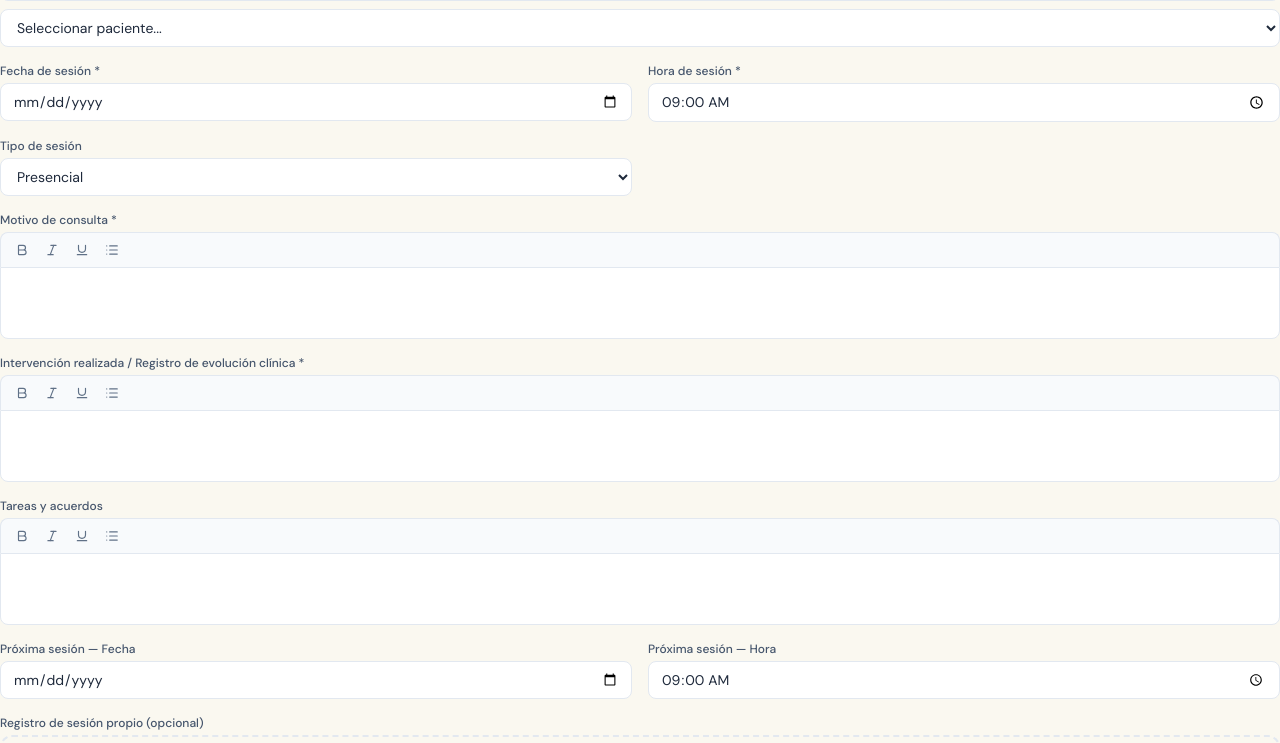
Test: ConsultationForm — paciente con tratamiento cerrado › si se cancela el diálogo no reenvía
Select "Paciente de Prueba — 11111111-1" in the dropdown labelled "Paciente *": {"x": 640, "y": 28} left=0, top=9, right=1279, bottom=47
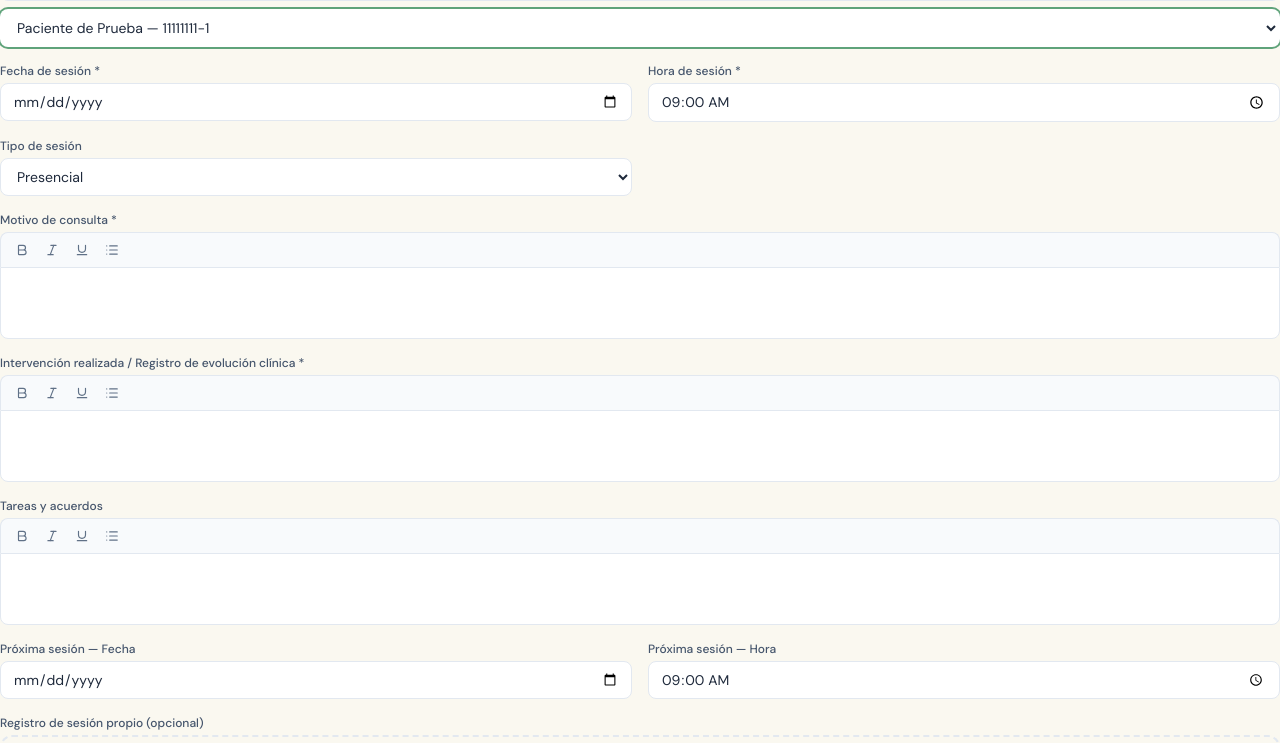
In the date field labelled "Fecha de sesión *": {"x": 316, "y": 102} left=0, top=83, right=632, bottom=121, type "2026-10-05"
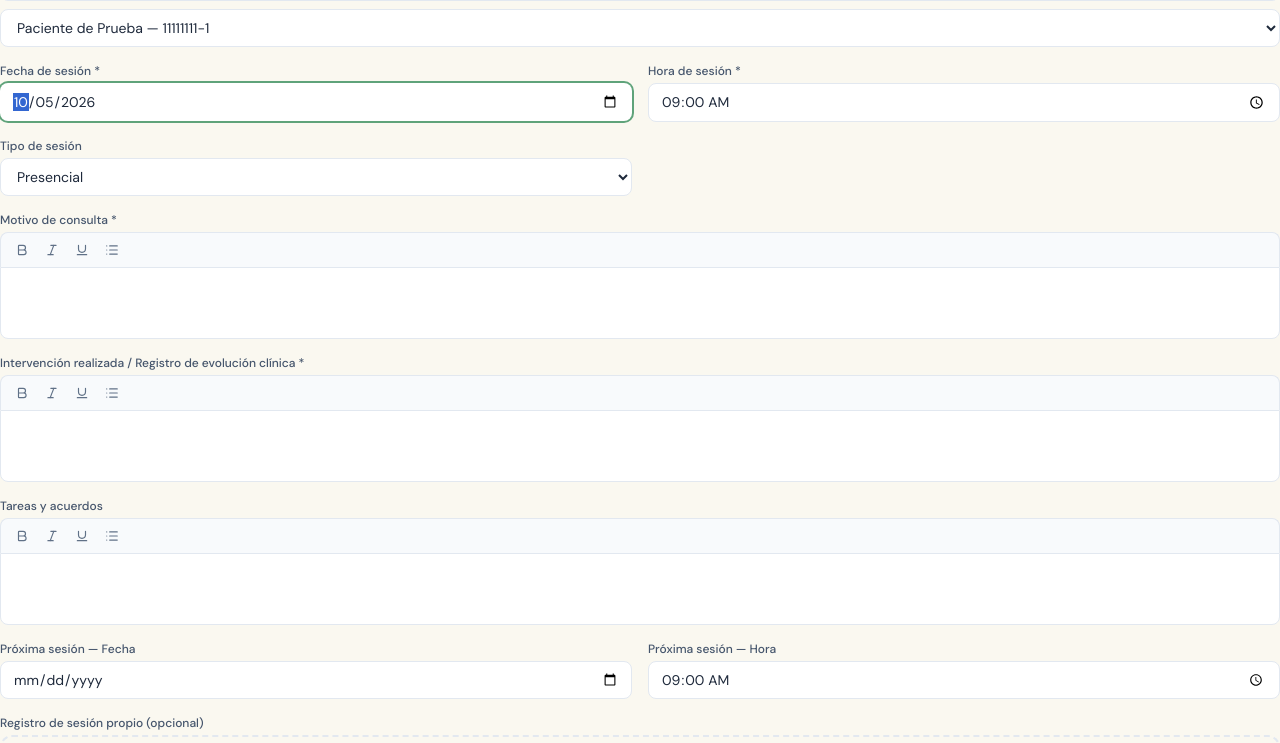
In the field named "Motivo de consulta": {"x": 640, "y": 303} left=0, top=267, right=1279, bottom=339, type "Ansiedad"
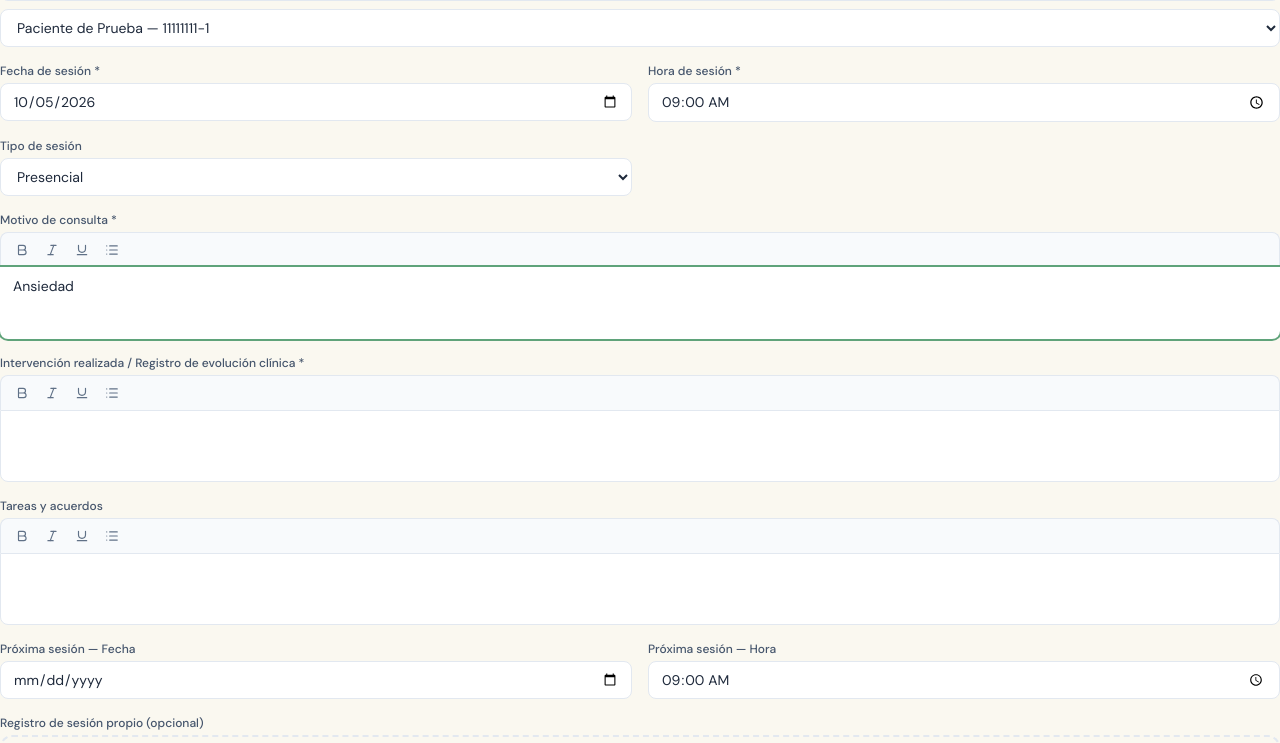
In the field named "Intervención realizada / Registro de evolución clínica": {"x": 640, "y": 446} left=0, top=410, right=1279, bottom=482, type "Respiración"
(page scrolled)
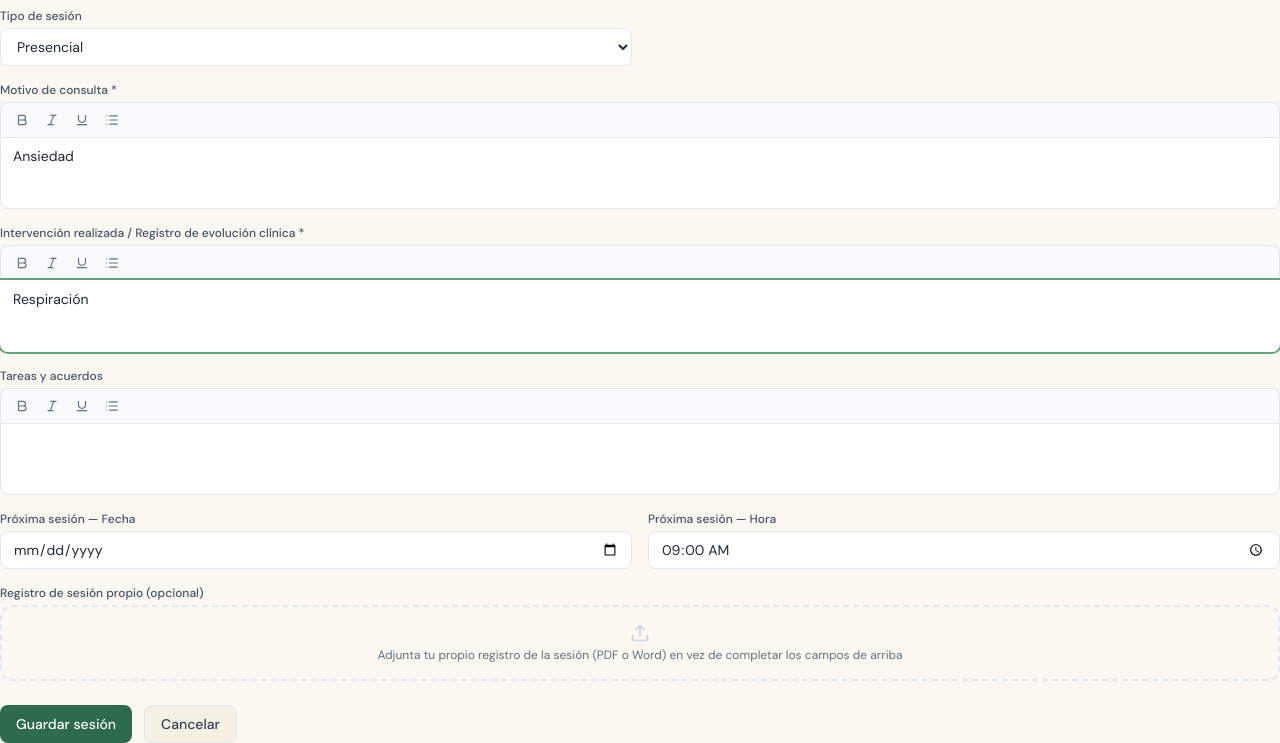
Click the button "Guardar sesión": {"x": 66, "y": 724} left=0, top=705, right=132, bottom=742
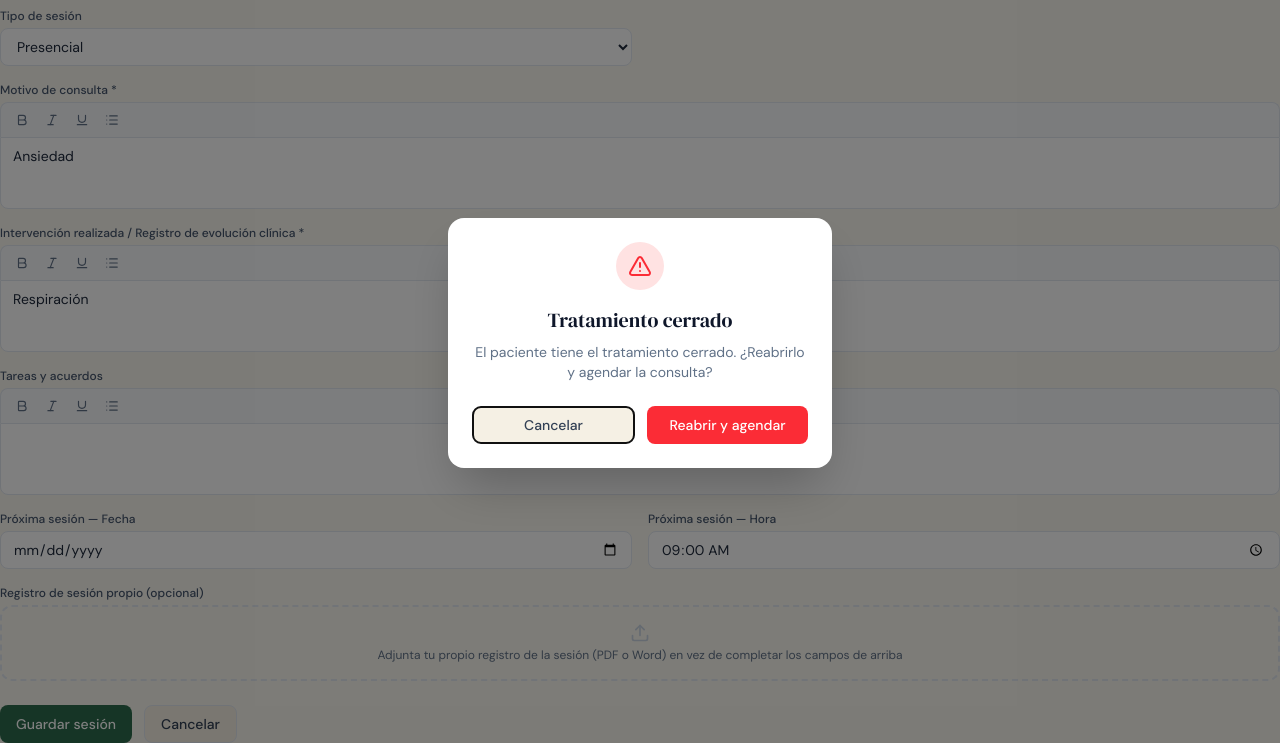
Now the text "tiene el tratamiento cerrado" is shown, box left=475, top=343, right=805, bottom=381
Click the button "Cancelar": {"x": 554, "y": 425} left=472, top=406, right=635, bottom=444
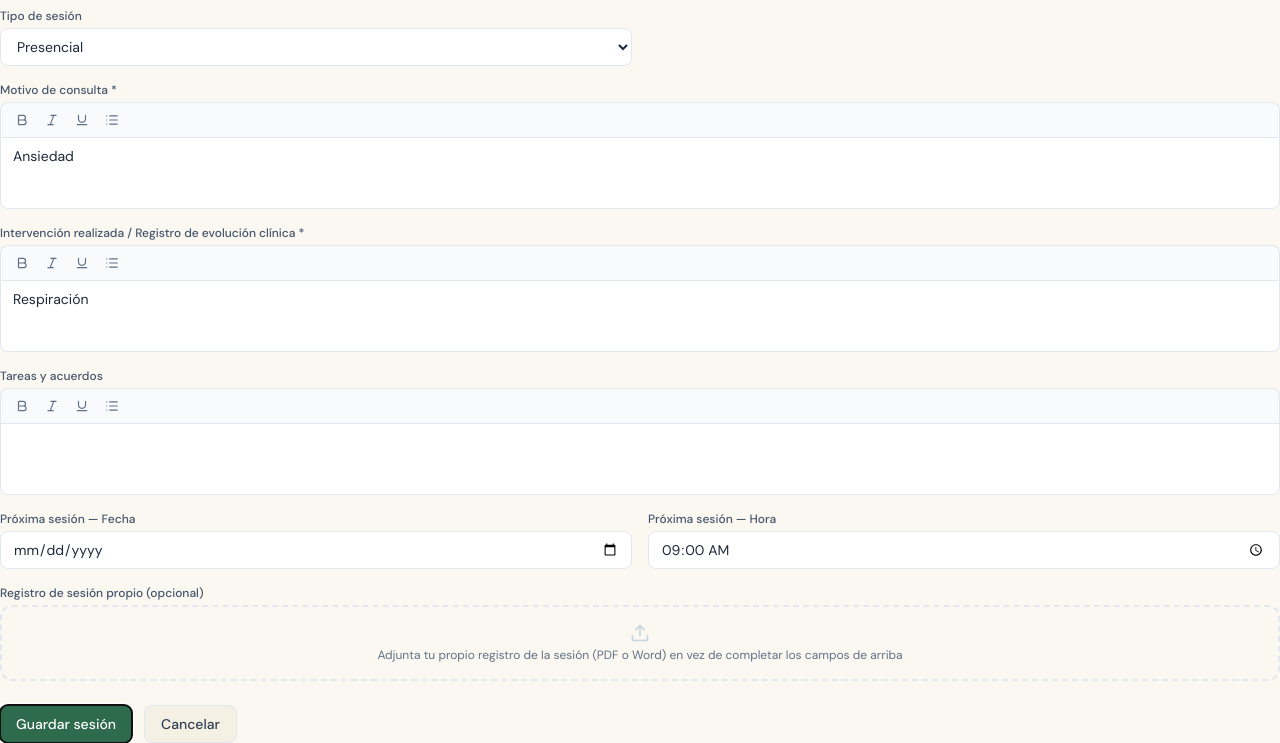
Now the text "tiene el tratamiento cerrado" is gone
